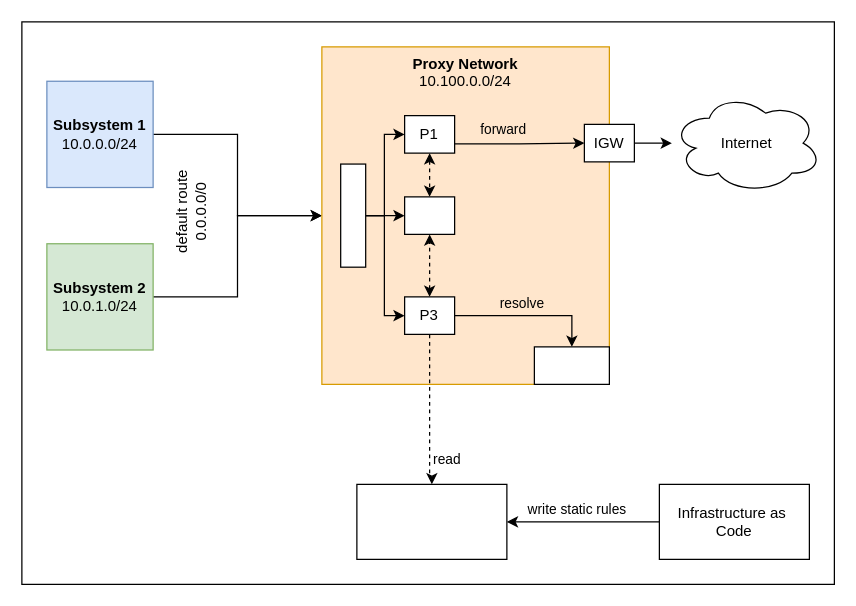
The diagram is 856 pixels wide and 606 high, and some of its shapes have lost their labels. The shapes that lost their labels are listed below. From the top down, each one's box as (x1, y1, x2, y2) in pixels, then its label:
(340, 163, 366, 267): LB
(403, 196, 455, 234): P2
(533, 346, 609, 384): DNS Resolver
(356, 483, 507, 559): Ruleset
